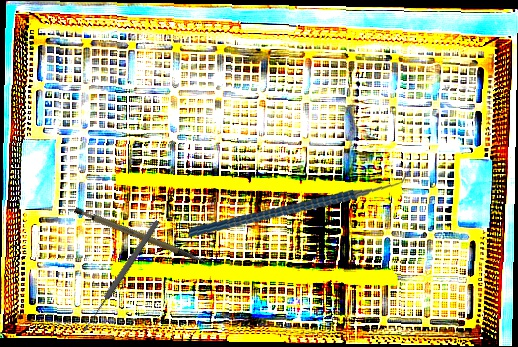Chopper: (188, 143, 411, 260)
Scalpel Handle: (72, 190, 208, 285)
Surgical Spoon: (79, 218, 162, 334)
